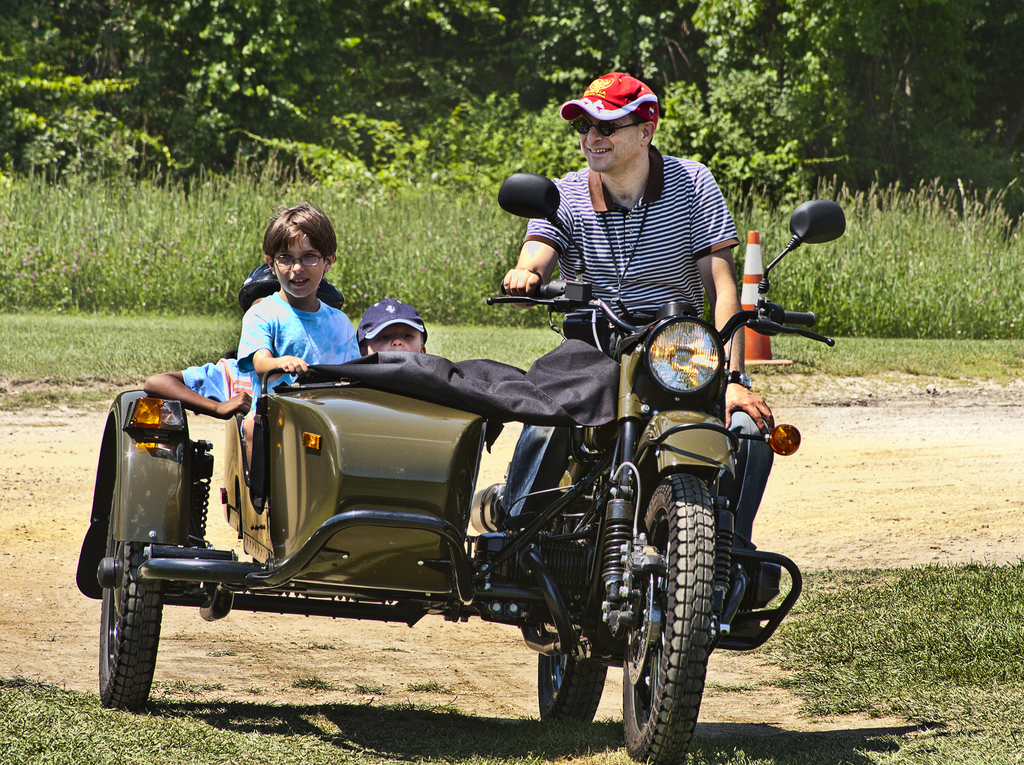Person: (142, 72, 774, 529)
